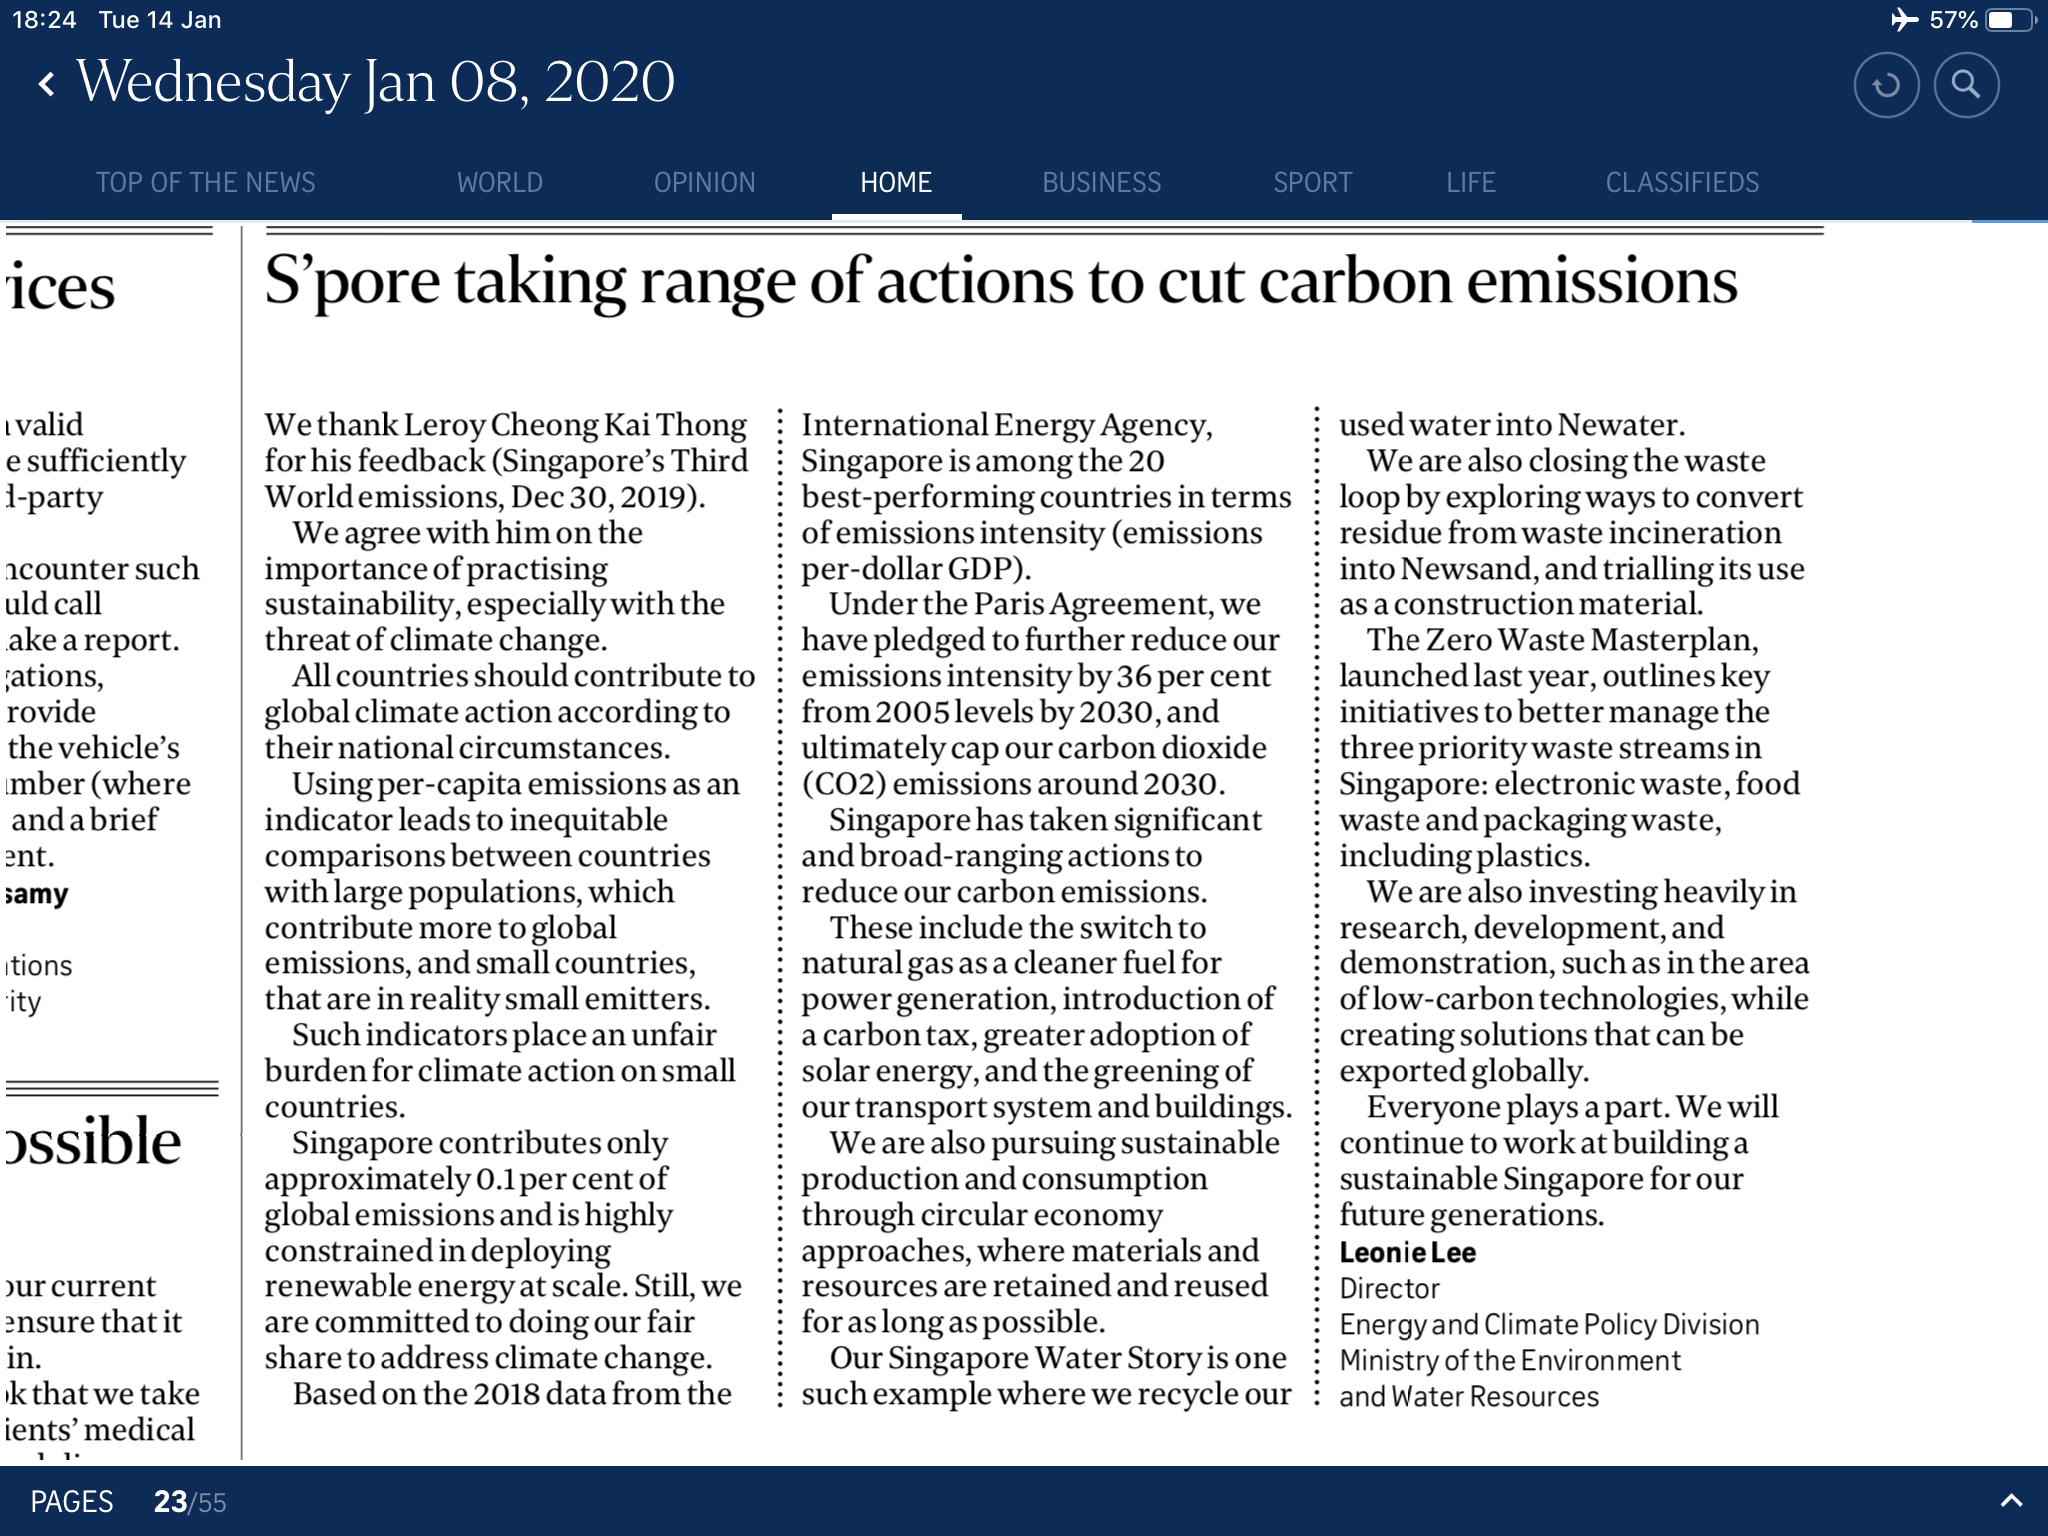Byline: (1338, 1241, 1759, 1410)
Headline: (264, 250, 1745, 323)
Text: (264, 407, 756, 1412), (801, 407, 1293, 1412), (1329, 402, 1809, 1238)
